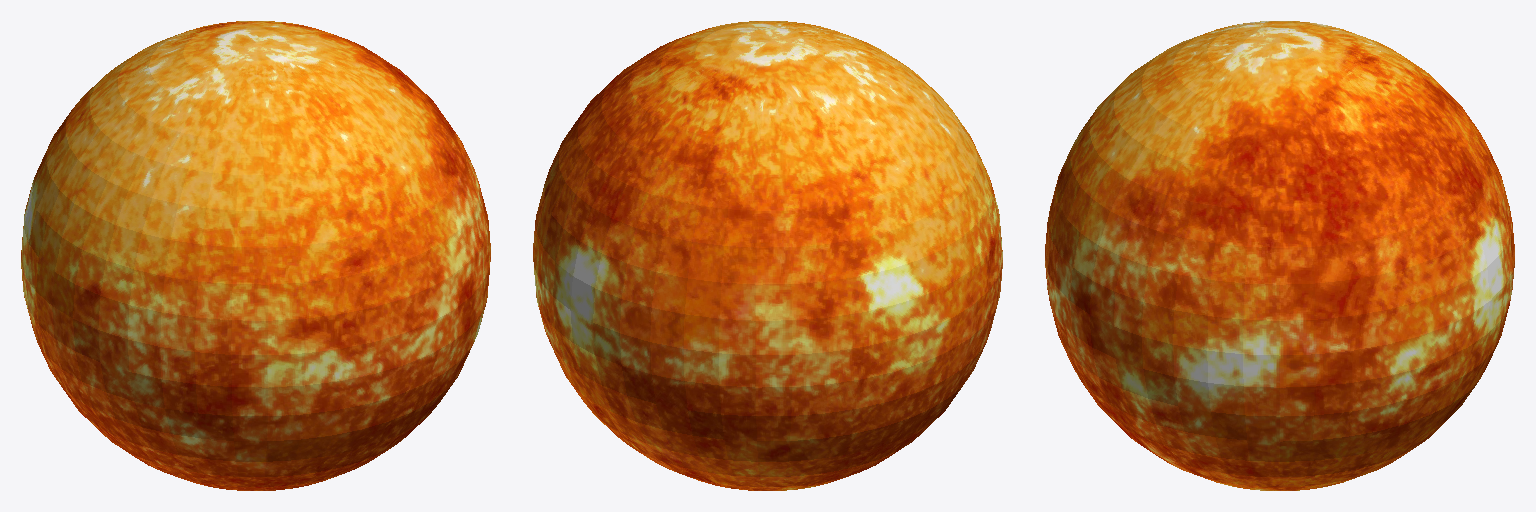
3 views of the same model, side by side, from view 1: azimuth 30°, elevation 25°; view 2: azimuth 150°, elevation 25°; view 3: azimuth 270°, elevation 25° (orthographic).
Parts seen in each view (by area): view 1: Sphere; view 2: Sphere; view 3: Sphere.
Boxes of the visible parts, <box> form: Sphere: <box>21,21,490,490</box>; Sphere: <box>533,21,1002,490</box>; Sphere: <box>1045,21,1514,490</box>.
Bounding box in the file's own units: 2 × 2 × 2.
1 materials, 1 textured.